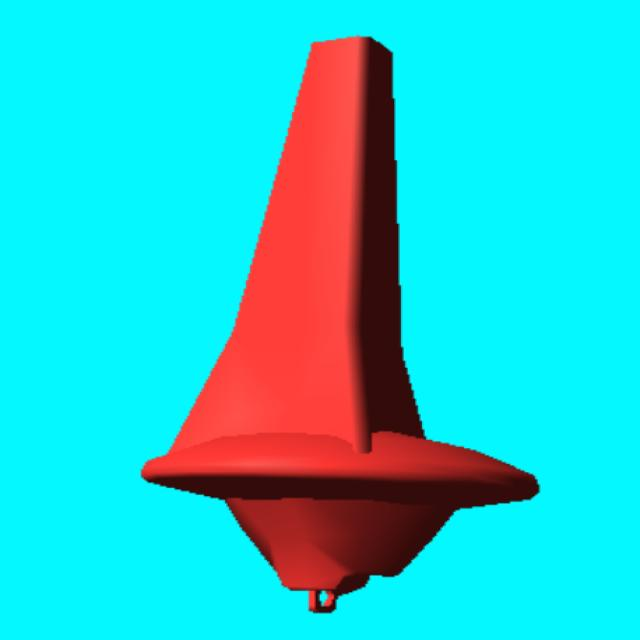RedBuoy: (142, 38, 538, 612)
